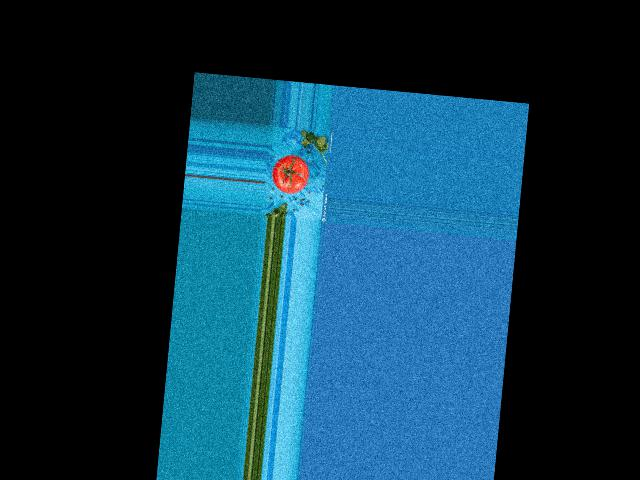tomato: (271, 153, 311, 194)
